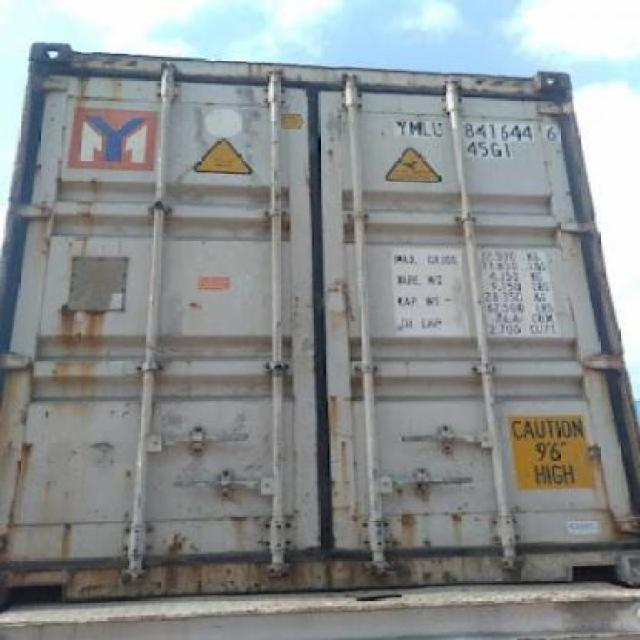ISO: (466, 140, 514, 160)
container_number: (394, 116, 564, 142)
